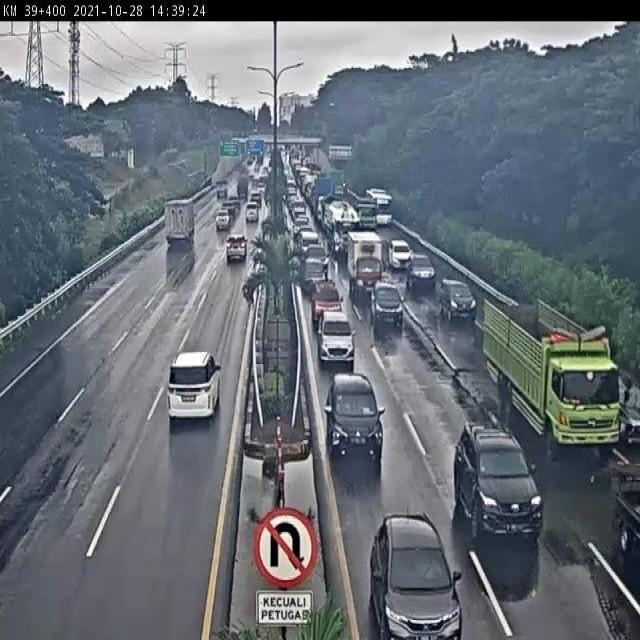car: (371, 516, 461, 640), (456, 424, 543, 535), (323, 374, 384, 454), (167, 349, 221, 423), (439, 276, 479, 323), (317, 311, 353, 361), (370, 283, 402, 324), (309, 274, 339, 314), (406, 253, 434, 284), (302, 244, 329, 271), (302, 257, 324, 288), (224, 240, 245, 268), (214, 213, 231, 239)
mid truck: (482, 301, 622, 451), (162, 202, 196, 254)
small truck: (345, 231, 382, 293)
